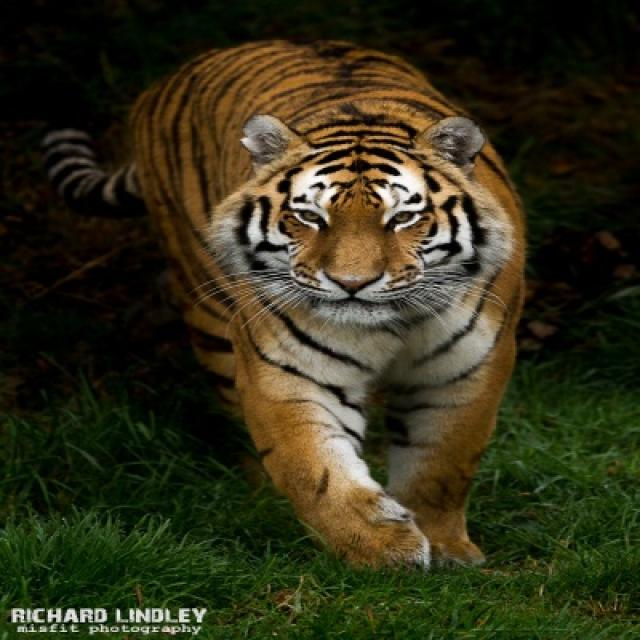Tiger: (220, 66, 529, 554)
